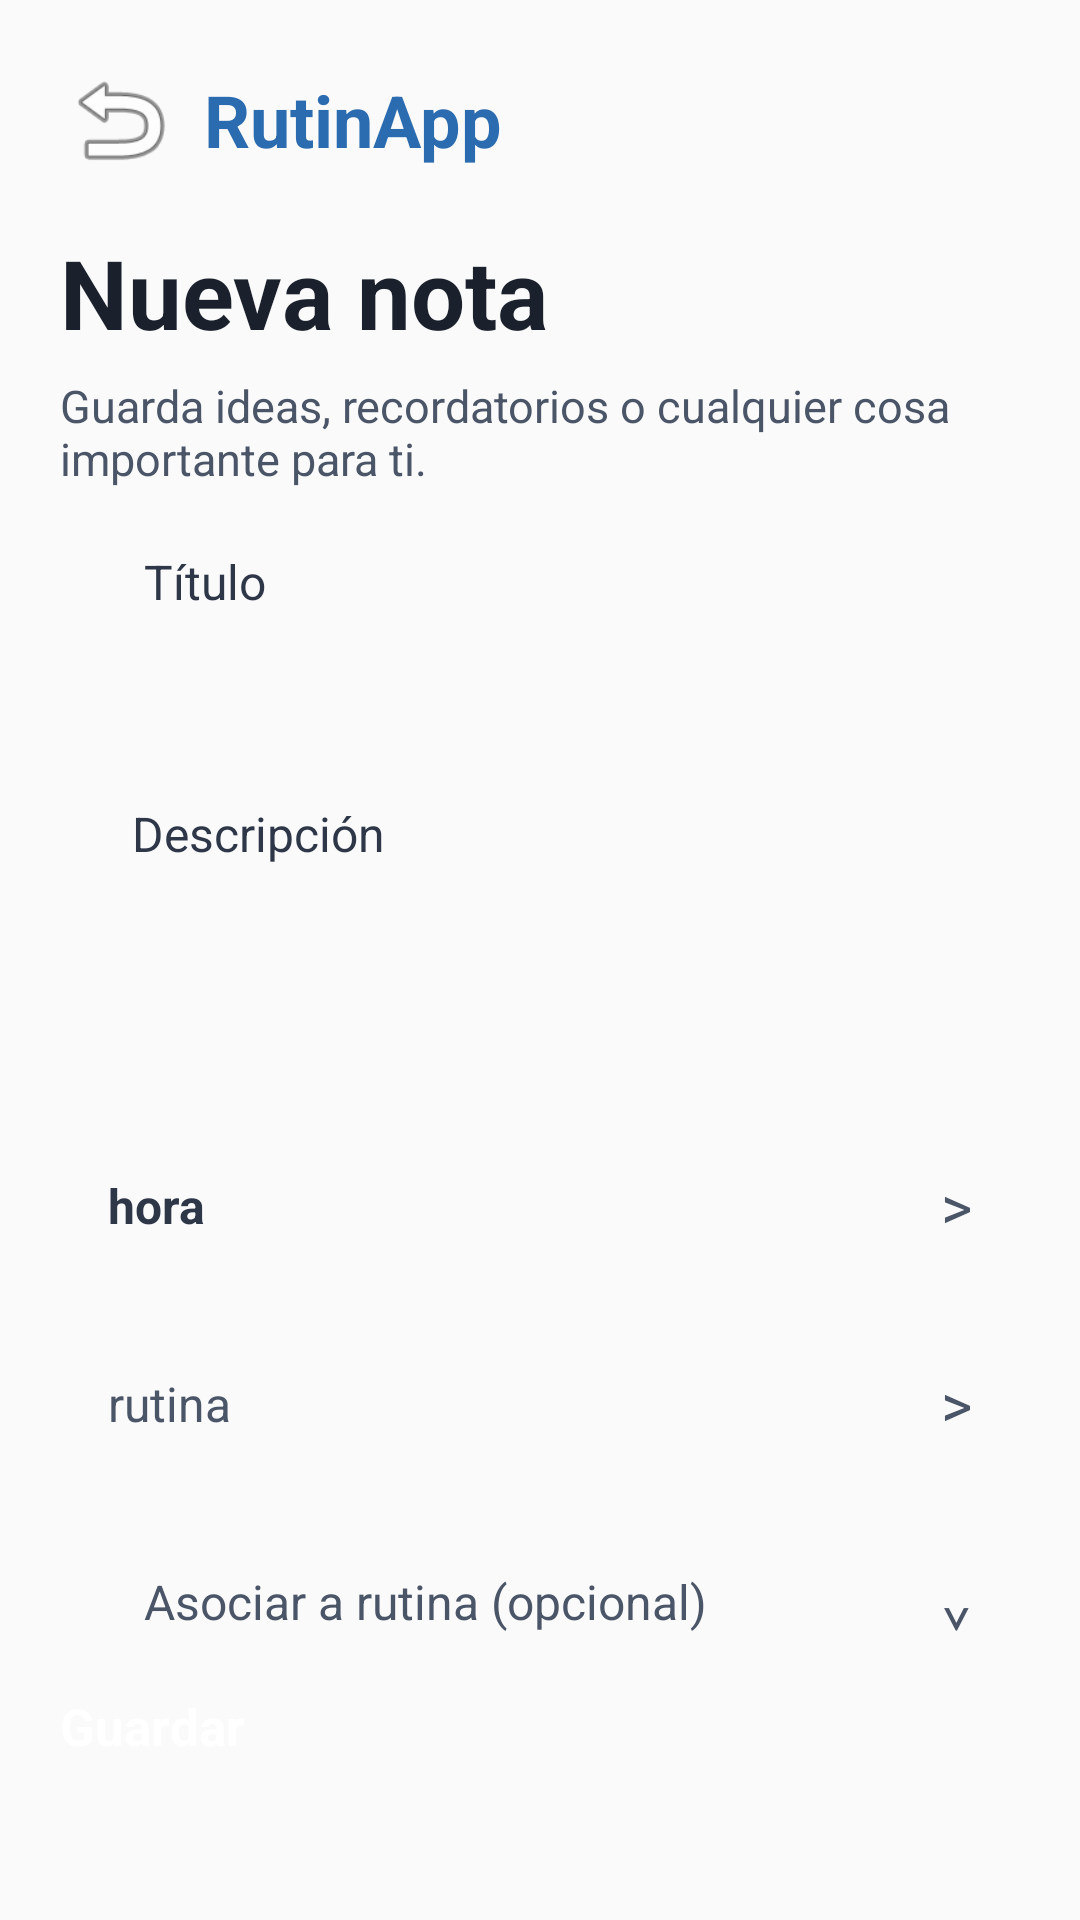

Locate icon controls on the screen. Image size 1080px x 1920px, boxes as bbox=(x1, y1, x2, y2).
Volver: bbox=(78, 82, 165, 160)
